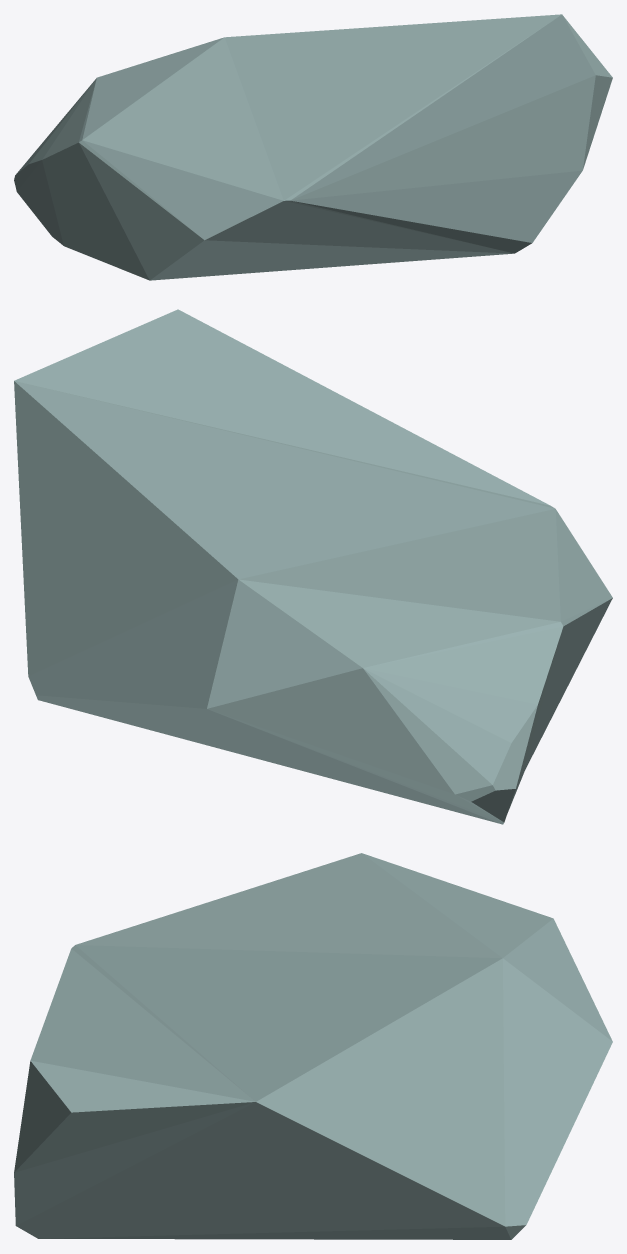
The model's file is rock_flat2.fbx.
The picture shows the model from 3 angles, top to bottom: view 1: azimuth 30°, elevation 25°; view 2: azimuth 150°, elevation 25°; view 3: azimuth 270°, elevation 25°; orthographic projection. The views are drawn at different scales.
Parts seen in each view (by area): view 1: rock_flat2; view 2: rock_flat2; view 3: rock_flat2.
Boxes of the visible parts, bbox=[...] form: rock_flat2: bbox=[14, 14, 612, 280]; rock_flat2: bbox=[14, 309, 612, 824]; rock_flat2: bbox=[14, 853, 612, 1239].
Size of the model in its own units: 2018 by 791 by 1575.
